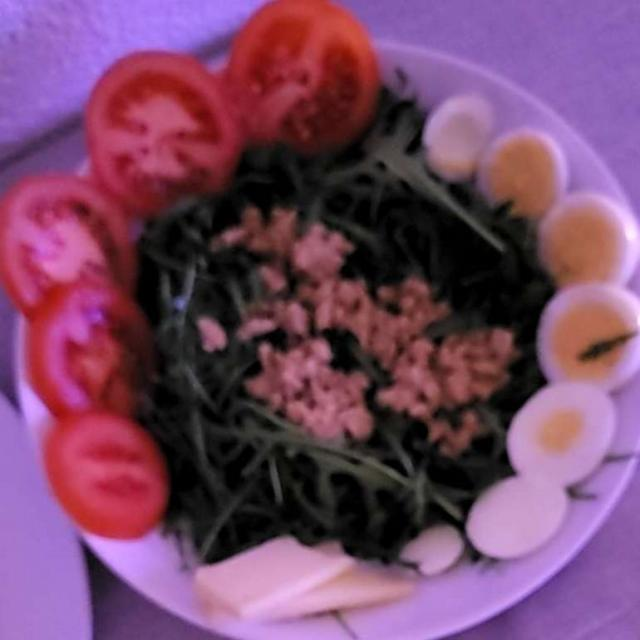egg: (417, 102, 636, 566)
salad: (134, 144, 534, 574)
tomato: (0, 3, 383, 539)
tuna: (194, 219, 526, 453)
